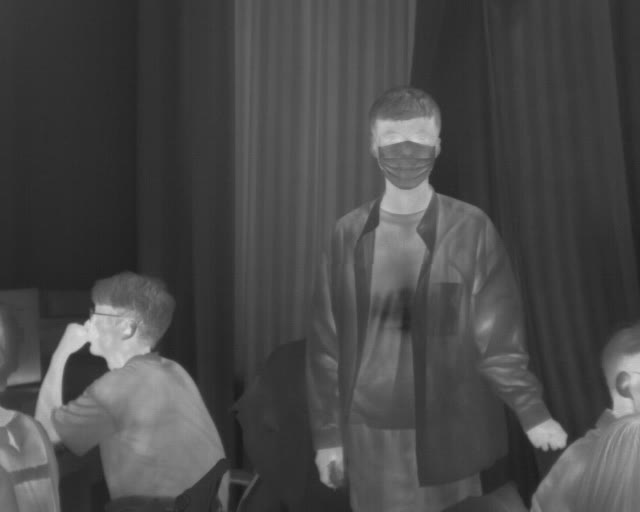face: (369, 86, 441, 193)
